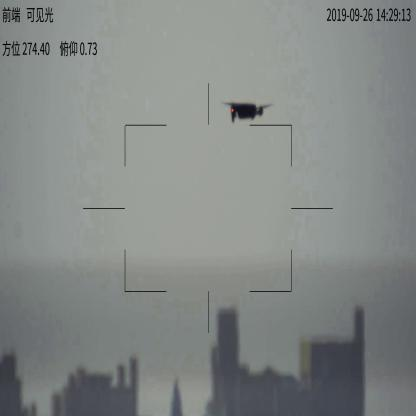uav: (219, 98, 273, 126)
